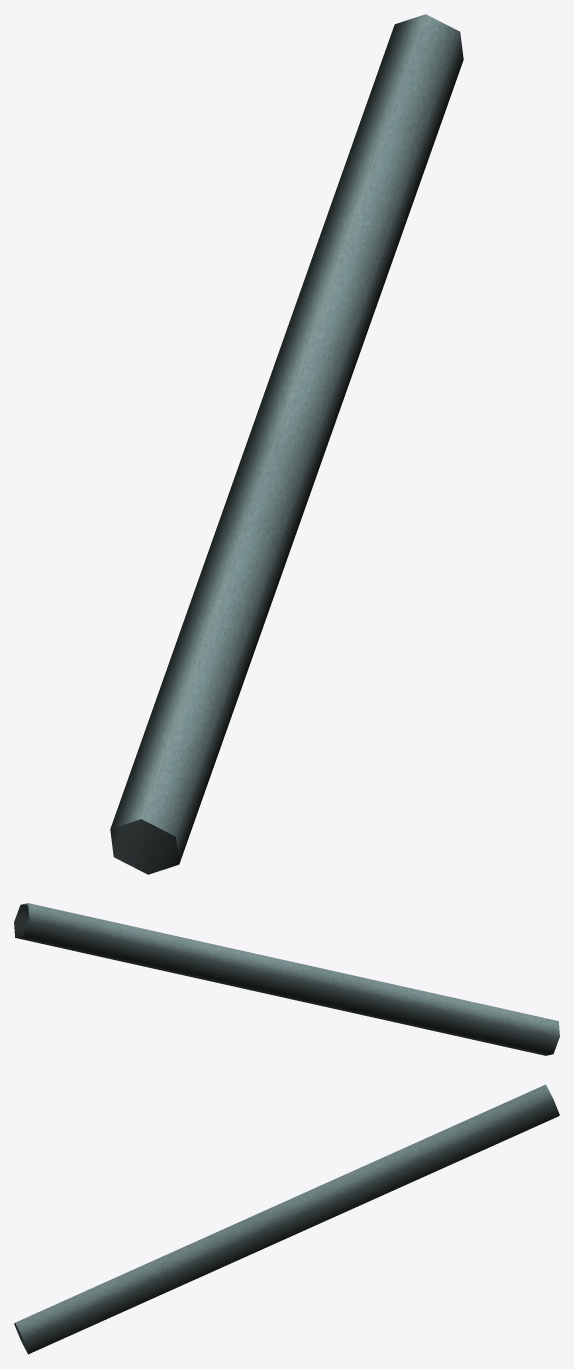
The model's file is roof_pipe_corner.glb.
3 renders of one model, top to bottom at view 1: azimuth 30°, elevation 25°; view 2: azimuth 150°, elevation 25°; view 3: azimuth 330°, elevation 25°, orthographic. The views are drawn at different scales.
Parts seen in each view (by area): view 1: roof_pipe_corner; view 2: roof_pipe_corner; view 3: roof_pipe_corner.
Boxes of the visible parts, x1,y1,x2,y2 form: roof_pipe_corner: (110,14,463,874); roof_pipe_corner: (14,903,559,1055); roof_pipe_corner: (14,1084,559,1354).
Size of the model in its own units: 4.26 by 2.38 by 4.26.
Materials: 1 (1 with a texture image).
